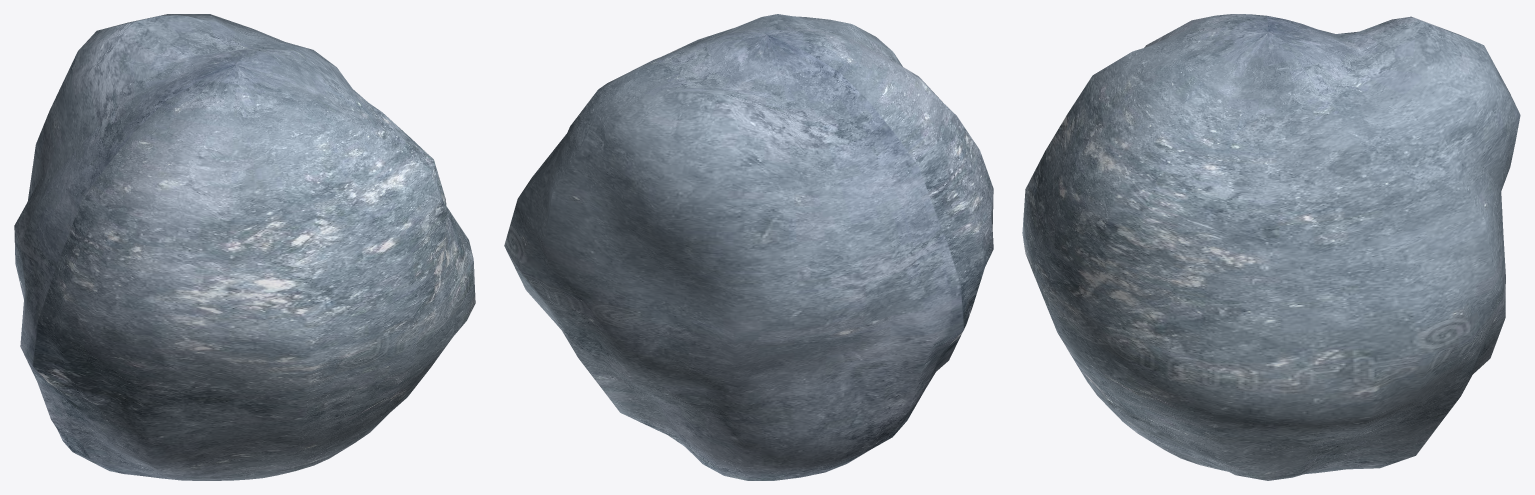
Rendered from PiedraGranizo.fbx.
3 renders of one model, left to right at view 1: azimuth 30°, elevation 25°; view 2: azimuth 150°, elevation 25°; view 3: azimuth 270°, elevation 25°, orthographic. The views are drawn at different scales.
Parts seen in each view (by area): view 1: Sphere; view 2: Sphere; view 3: Sphere.
Part boxes in pixels (box(x1,y1,x2,y2)): Sphere: box(14, 14, 475, 480); Sphere: box(504, 14, 993, 480); Sphere: box(1022, 14, 1520, 480).
Bounding box in the file's own units: 234 × 216 × 224.
1 material, 1 textured.
